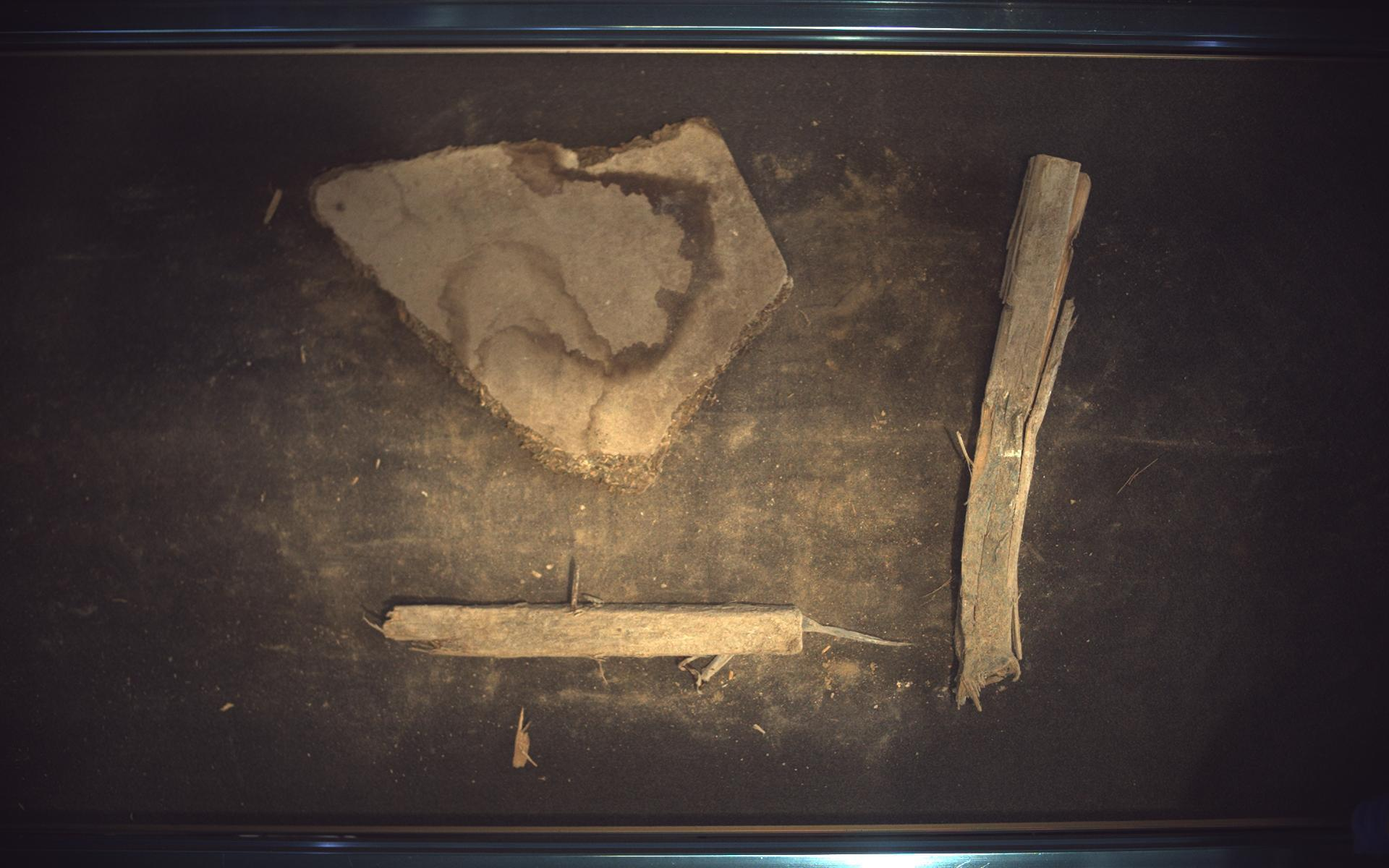wood: (310, 117, 791, 492), (957, 154, 1093, 711), (370, 559, 911, 689)
